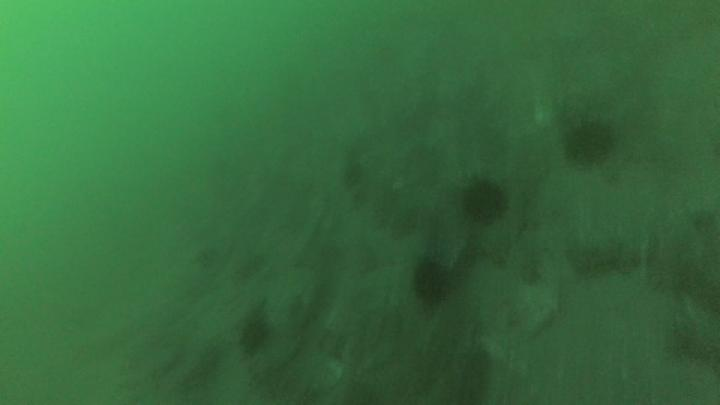echinus: (557, 114, 618, 172), (460, 174, 509, 232), (411, 254, 456, 311), (236, 313, 271, 361)
